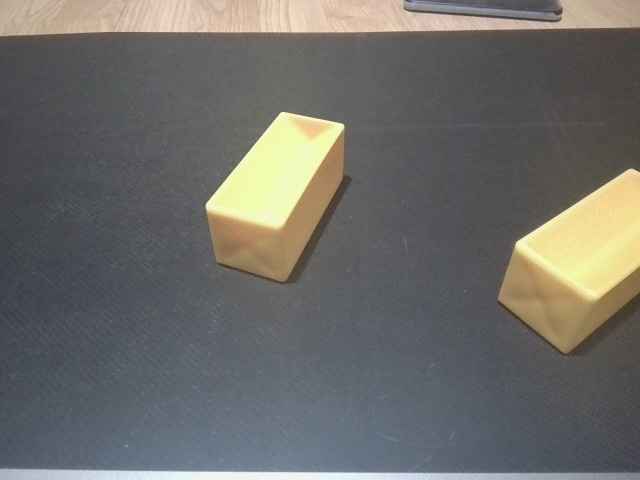YellowSample: (490, 164, 640, 361), (202, 108, 354, 288)
